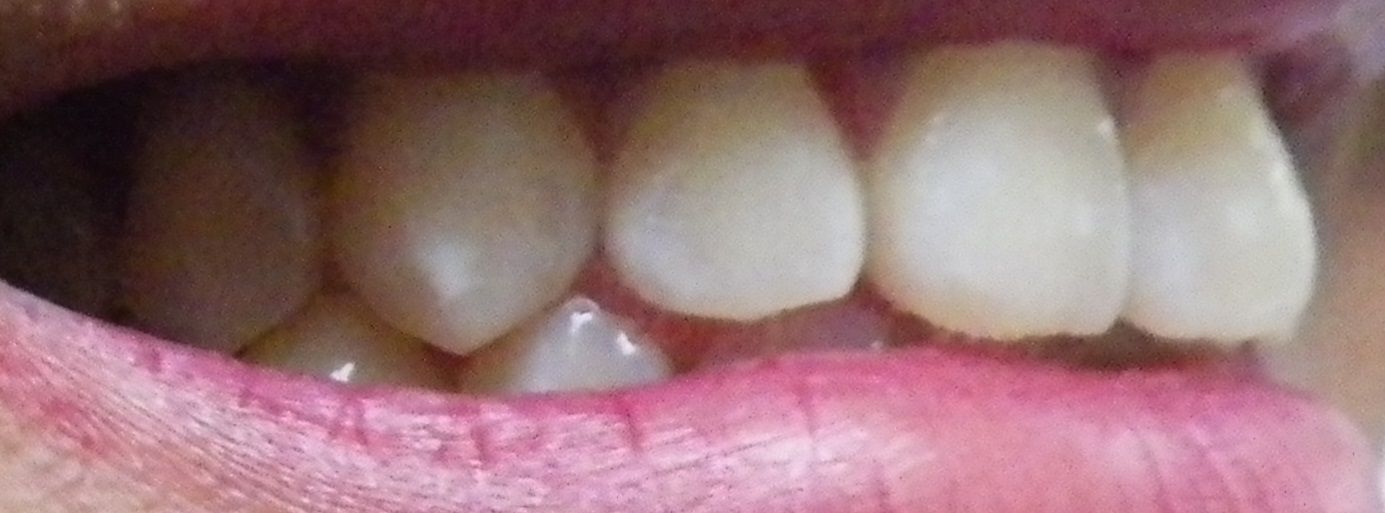boca: (40, 60, 1317, 394)
